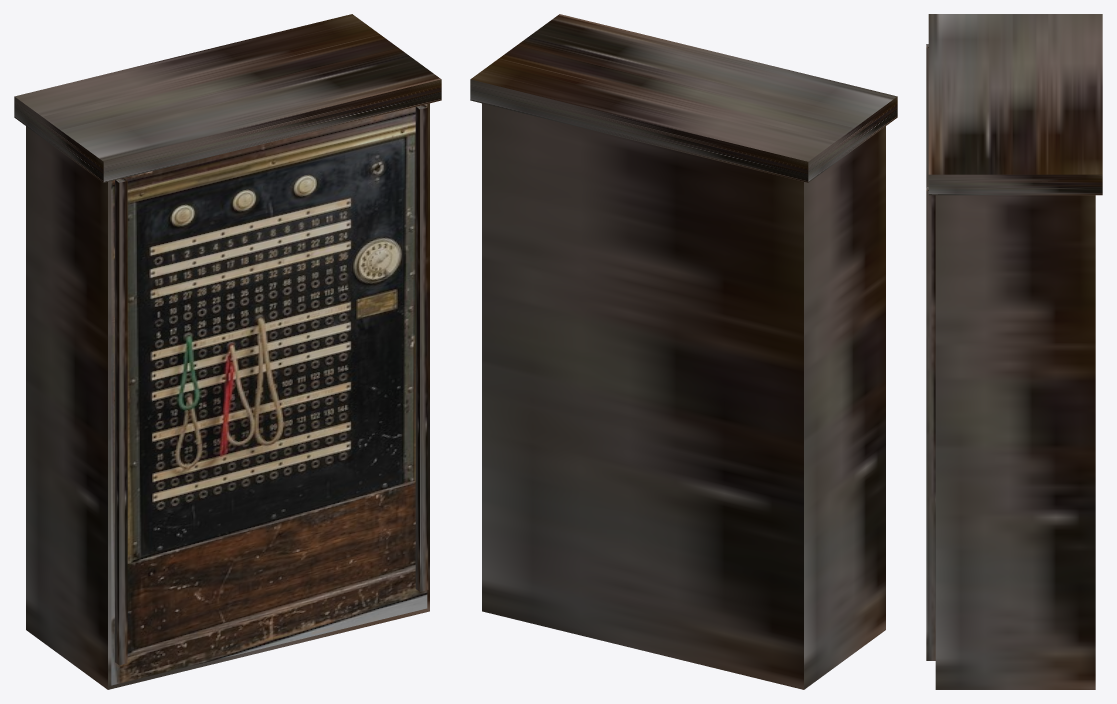
Rendered from santral.glb.
The picture shows the model from 3 angles, left to right: view 1: azimuth 30°, elevation 25°; view 2: azimuth 150°, elevation 25°; view 3: azimuth 270°, elevation 25°; orthographic projection. The views are drawn at different scales.
Parts seen in each view (by area): view 1: santral; view 2: santral; view 3: santral.
Boxes of the visible parts, <box> form: santral: <box>14,14,441,689</box>; santral: <box>470,14,897,689</box>; santral: <box>926,14,1102,689</box>.
Bounding box in the file's own units: 1.07 × 1.61 × 0.496.
Materials: 1 (1 with a texture image).
